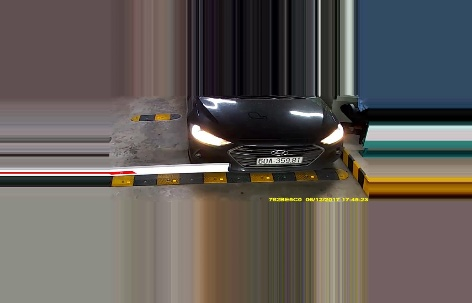plate: (255, 154, 303, 166)
